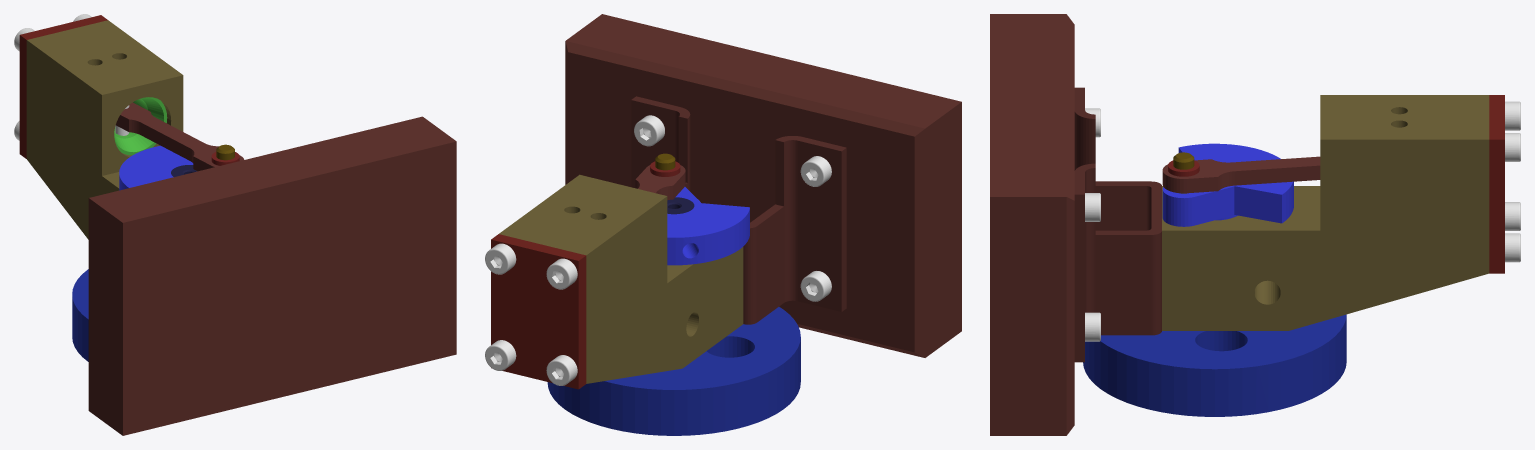
File: airmotor.fbx
The picture shows the model from 3 angles, left to right: view 1: azimuth 30°, elevation 25°; view 2: azimuth 150°, elevation 25°; view 3: azimuth 270°, elevation 25°; orthographic projection. The views are drawn at different scales.
Parts seen in each view (by area): view 1: airmotor - Part1-1, airmotor - Part3-1, airmotor - Part7-1, airmotor - Part6-1, airmotor - Part12-1, airmotor - Part4-1, airmotor - Part8-1; view 2: airmotor - Part1-1, airmotor - Part3-1, airmotor - Part4-1, airmotor - Part2-1, airmotor - Part12-1, airmotor - Part6-1, airmotor - Part7-1, Airmotor - Socket Head Cap Screw 4762 Din-5, Airmotor - Socket Head Cap Screw 4762 Din-7, Airmotor - Socket Head Cap Screw 4762 Din-3, Airmotor - Socket Head Cap Screw 4762 Din-1, Airmotor - Socket Head Cap Screw 4762 Din-8 (+2 smaller); view 3: airmotor - Part3-1, airmotor - Part1-1, airmotor - Part4-1, airmotor - Part2-1, airmotor - Part6-1, airmotor - Part7-1, airmotor - Part12-1.
Boxes of the visible parts, bbox=[...] form: airmotor - Part1-1: bbox=[88, 116, 456, 435]; airmotor - Part3-1: bbox=[26, 20, 183, 239]; airmotor - Part7-1: bbox=[116, 102, 244, 171]; airmotor - Part6-1: bbox=[119, 145, 193, 190]; airmotor - Part12-1: bbox=[19, 15, 107, 158]; airmotor - Part4-1: bbox=[72, 269, 88, 361]; airmotor - Part8-1: bbox=[114, 97, 167, 155]; airmotor - Part1-1: bbox=[565, 14, 961, 357]; airmotor - Part3-1: bbox=[499, 174, 743, 383]; airmotor - Part4-1: bbox=[547, 307, 800, 435]; airmotor - Part2-1: bbox=[631, 96, 846, 324]; airmotor - Part12-1: bbox=[491, 234, 586, 389]; airmotor - Part6-1: bbox=[667, 187, 749, 265]; airmotor - Part7-1: bbox=[635, 165, 685, 200]; Airmotor - Socket Head Cap Screw 4762 Din-5: bbox=[546, 258, 577, 289]; Airmotor - Socket Head Cap Screw 4762 Din-7: bbox=[485, 243, 516, 274]; Airmotor - Socket Head Cap Screw 4762 Din-3: bbox=[634, 115, 664, 146]; Airmotor - Socket Head Cap Screw 4762 Din-1: bbox=[800, 271, 831, 301]; Airmotor - Socket Head Cap Screw 4762 Din-8: bbox=[546, 355, 577, 385]; airmotor - Part3-1: bbox=[1162, 95, 1489, 330]; airmotor - Part1-1: bbox=[990, 14, 1074, 435]; airmotor - Part4-1: bbox=[1083, 314, 1346, 416]; airmotor - Part2-1: bbox=[1074, 87, 1161, 362]; airmotor - Part6-1: bbox=[1162, 143, 1293, 226]; airmotor - Part7-1: bbox=[1162, 156, 1320, 193]; airmotor - Part12-1: bbox=[1489, 95, 1504, 273].
Bounding box in the file's own units: 8200 × 6100 × 10059.
